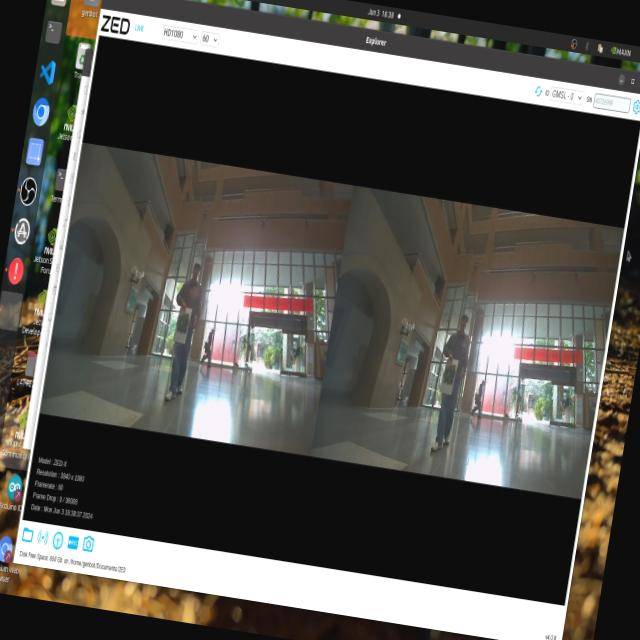green: (430, 364, 460, 394), (169, 305, 191, 343)
